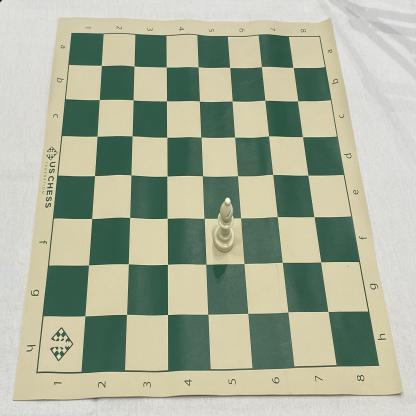white-bishop: (213, 197, 235, 253)
